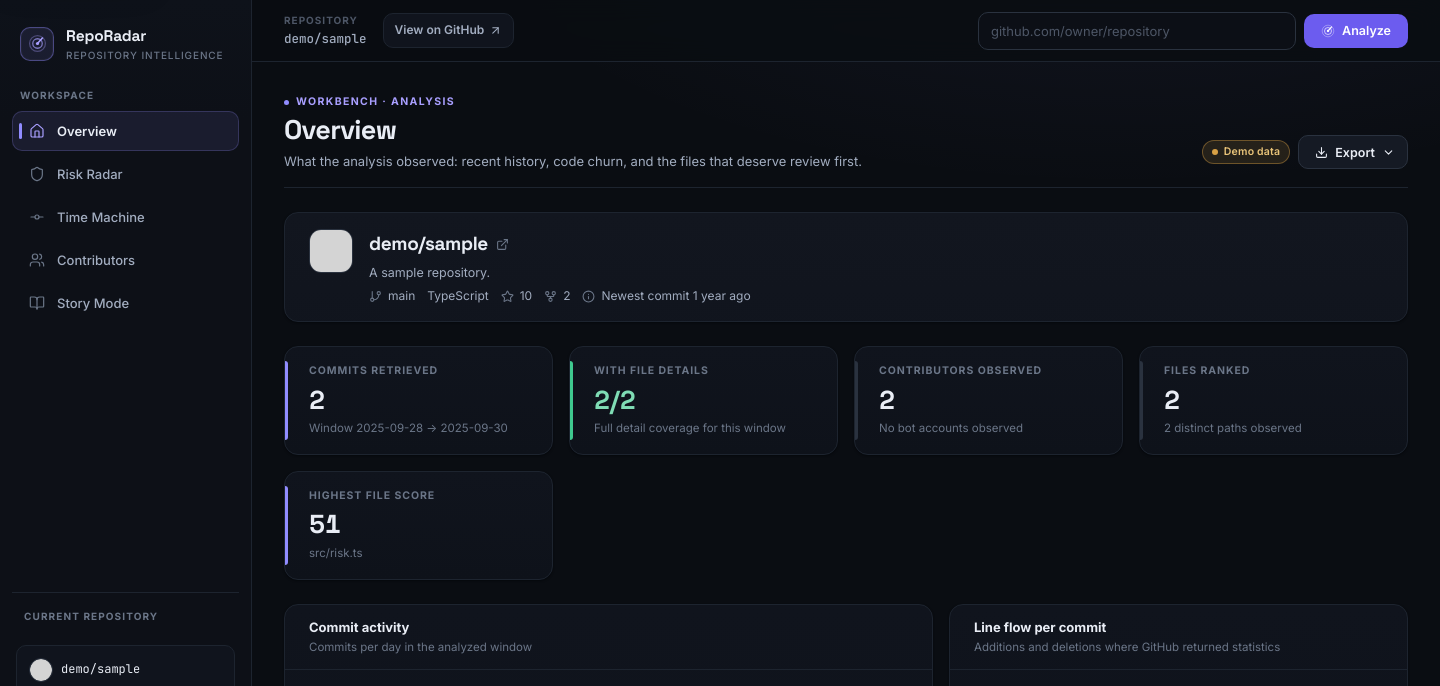
Scenario: App › explains a rate limit and keeps the retry available
This screenshot has width=1440, height=686.
Check: the heading "Overview" is shown, box [284,112,396,147]
In the field named "GitHub repository URL": (1137, 30) [978,12,1296,50], type "github.com/a/b"
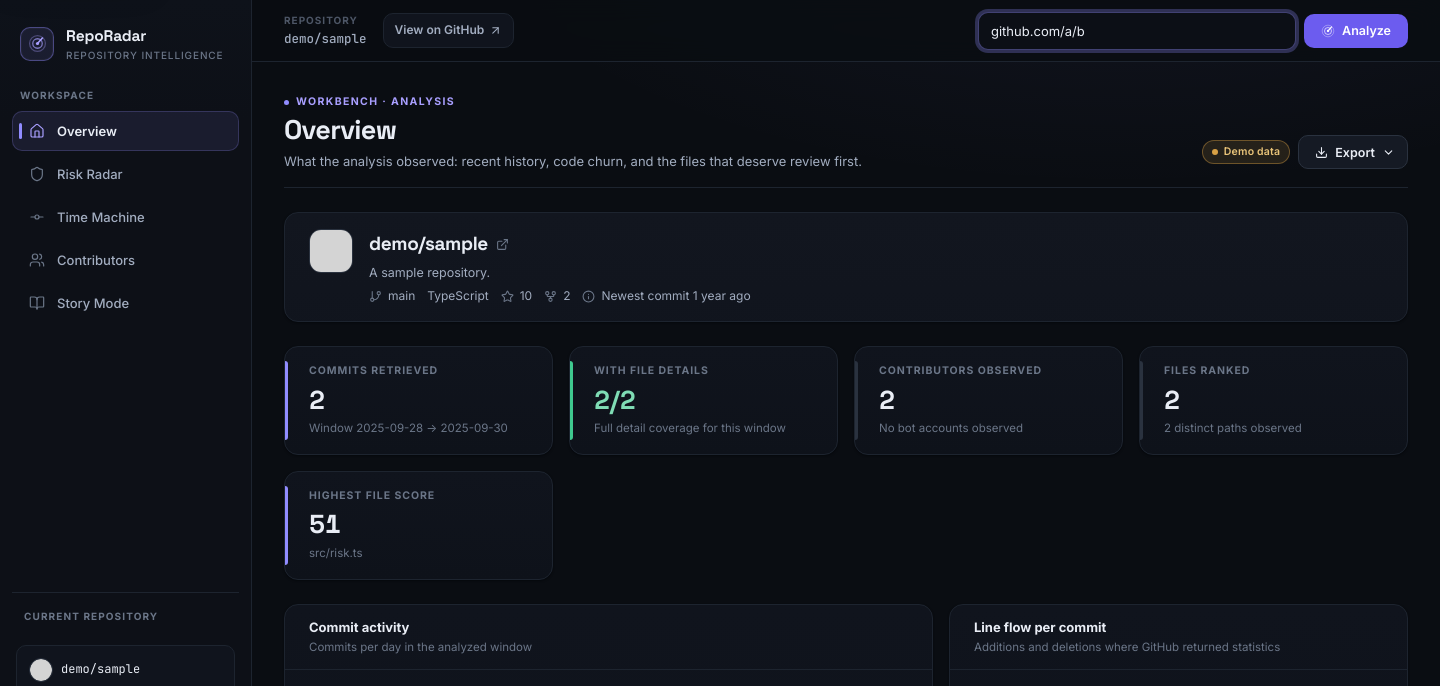
Click the button "Analyze": (1356, 30) [1304,14,1408,48]
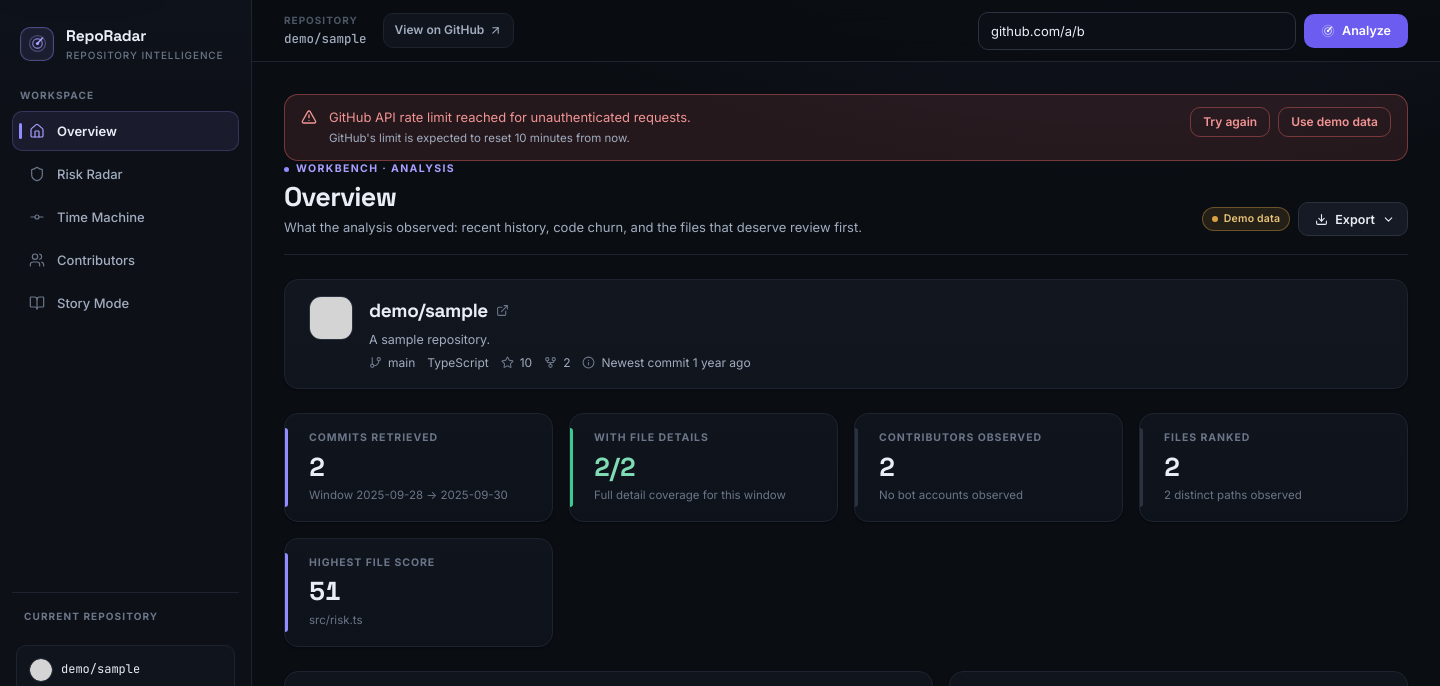
Check: the message shows "GitHub API rate limit reached", box [329,109,691,125]
Check: the message shows "limit is expected to reset", box [329,131,630,145]
Check: the button "Try again" is shown, box [1190,107,1270,137]
